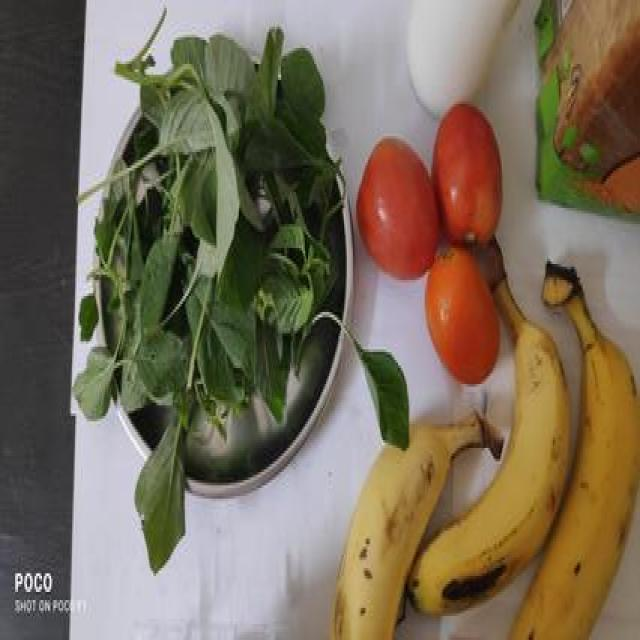Fresh_Spinach: (85, 11, 353, 478)
Fresh_tomato: (358, 119, 487, 382), (353, 140, 438, 277), (423, 240, 504, 381), (431, 102, 506, 235)
